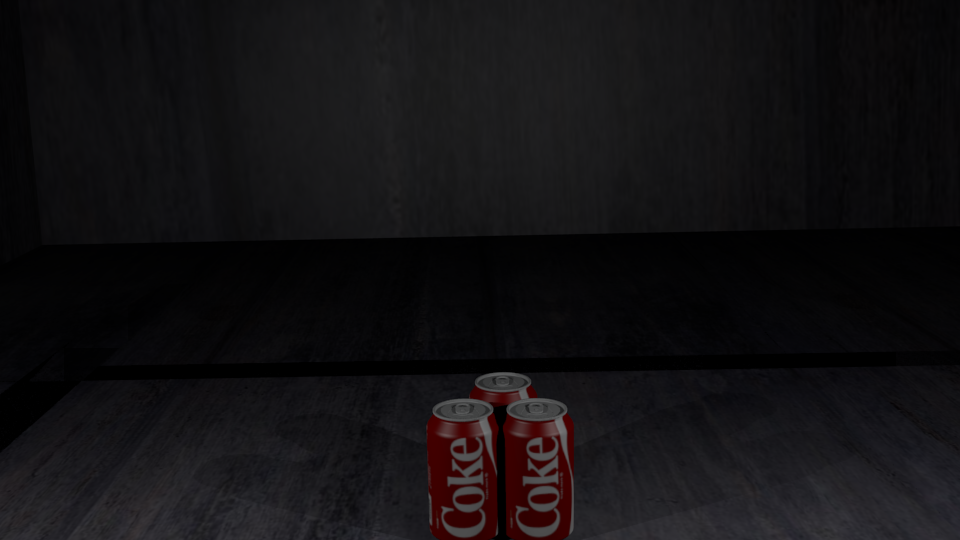cola_can: (427, 399, 500, 539), (500, 399, 573, 538), (470, 373, 536, 504)
